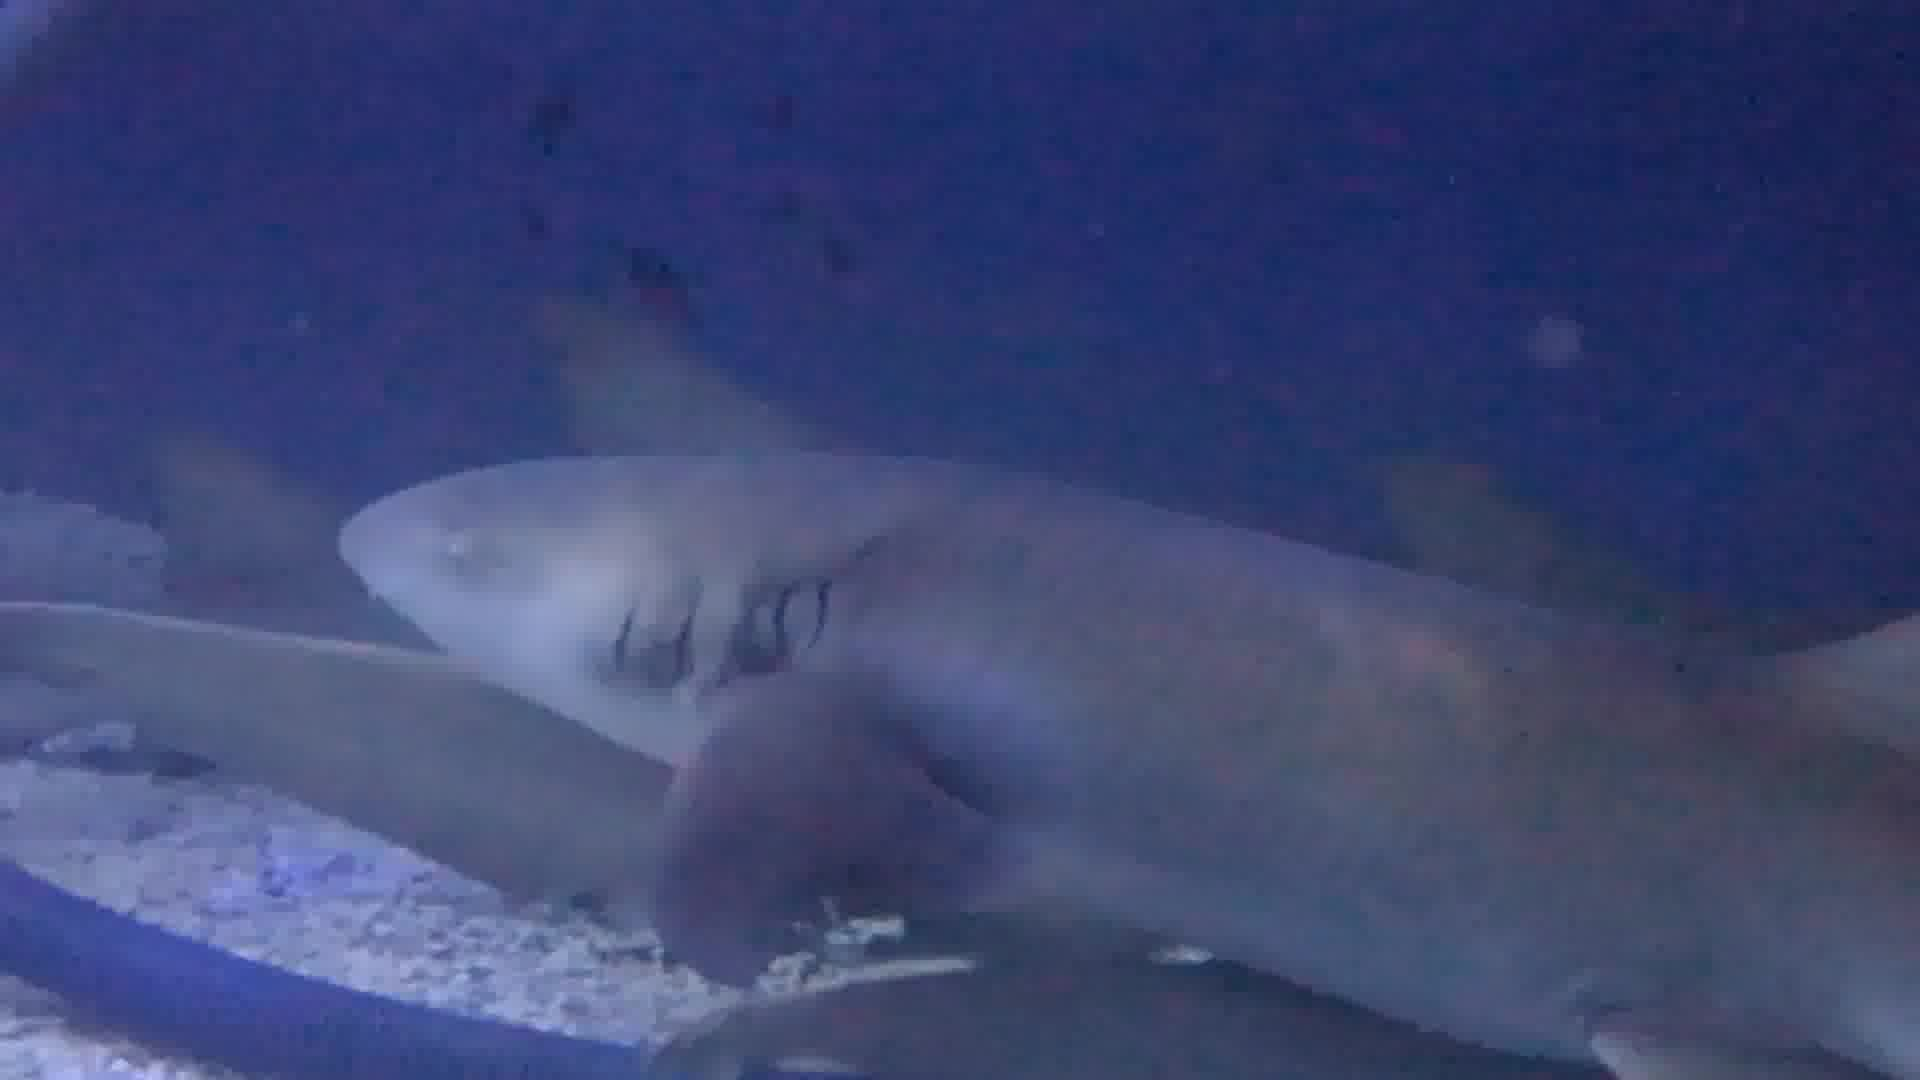Nebrius ferrugineus: (345, 444, 1917, 1079)
